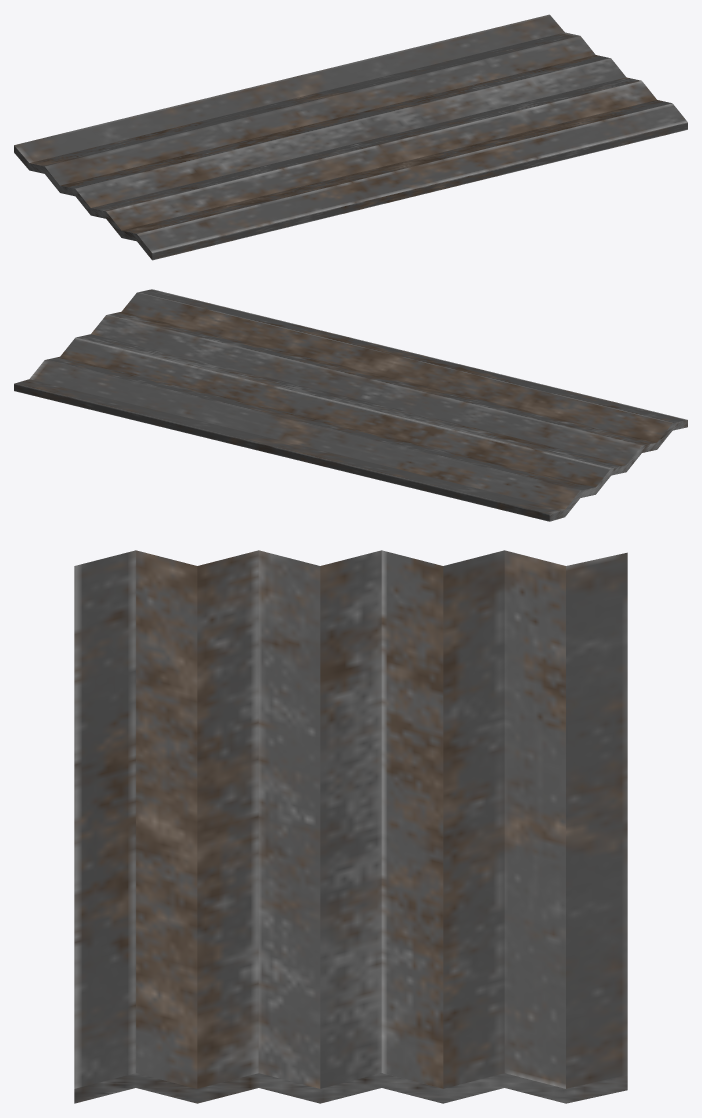
Rendered from Metal Scrap2.fbx.
The picture shows the model from 3 angles, top to bottom: view 1: azimuth 30°, elevation 25°; view 2: azimuth 150°, elevation 25°; view 3: azimuth 270°, elevation 25°; orthographic projection. The views are drawn at different scales.
Parts seen in each view (by area): view 1: Cube; view 2: Cube; view 3: Cube.
Boxes of the visible parts, box(x1,y1,x2,y2) form: Cube: box(14, 14, 687, 260); Cube: box(14, 289, 687, 521); Cube: box(74, 550, 627, 1103).
Size of the model in its own units: 210 by 5.73 by 94.02.
